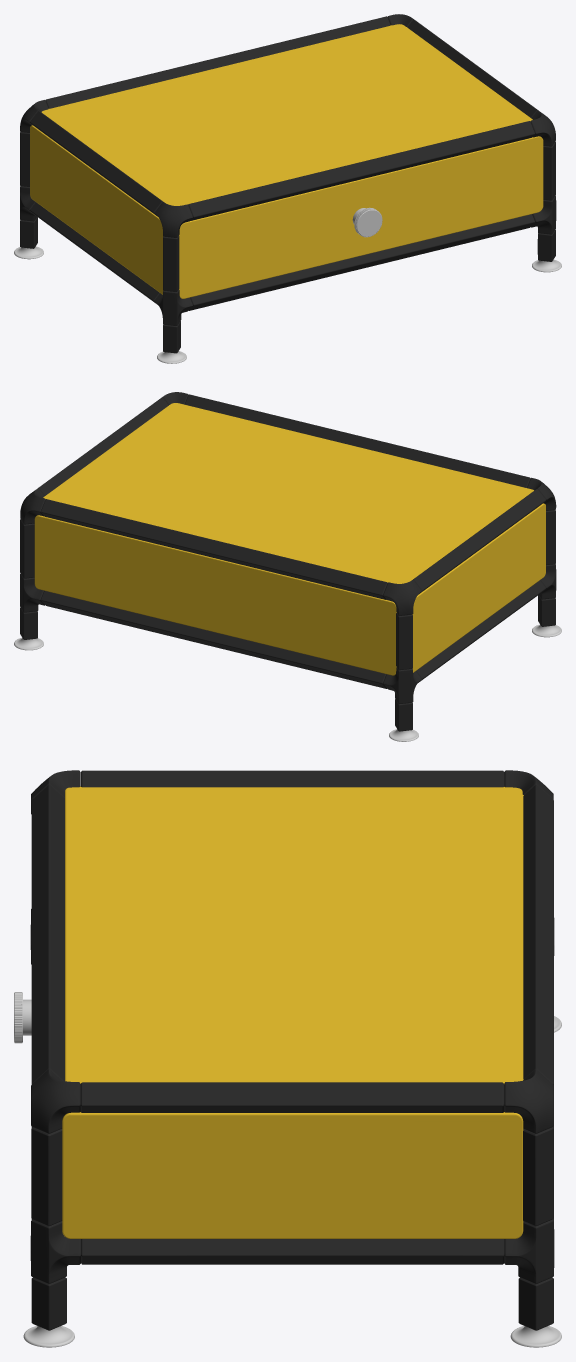
3 renders of one model, top to bottom at view 1: azimuth 30°, elevation 25°; view 2: azimuth 150°, elevation 25°; view 3: azimuth 270°, elevation 25°, orthographic. The views are drawn at different scales.
Visible parts, largest first — view 1: 523x329x79; view 2: 523x329x79; view 3: 523x329x79.
Part boxes in pixels (bbox=[...]): 523x329x79: bbox=[14, 14, 561, 363]; 523x329x79: bbox=[14, 392, 561, 741]; 523x329x79: bbox=[14, 770, 561, 1347].
Size of the model in its own units: 0.6129 by 0.2183 by 0.4257.
